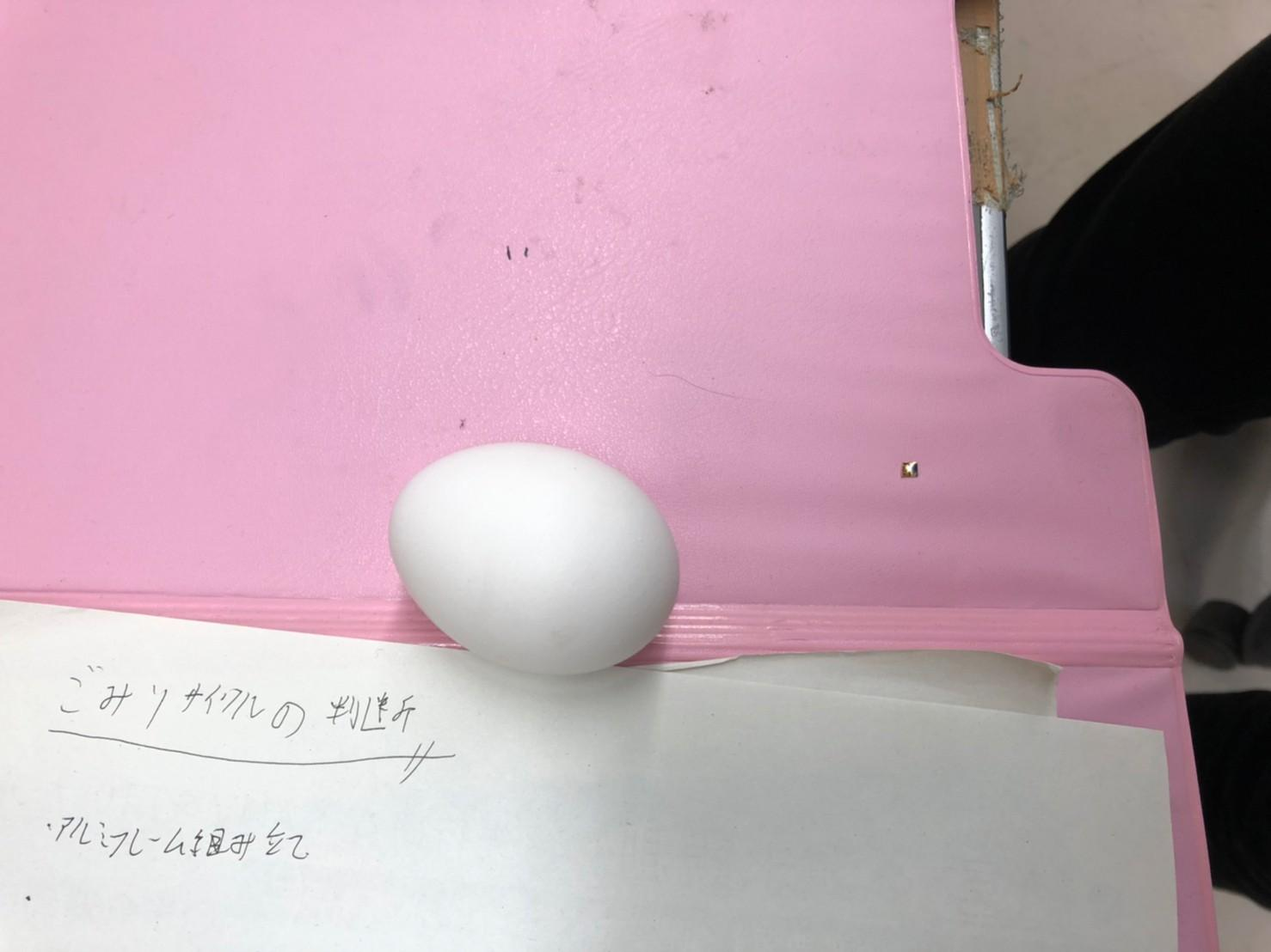egg: (388, 439, 686, 680)
